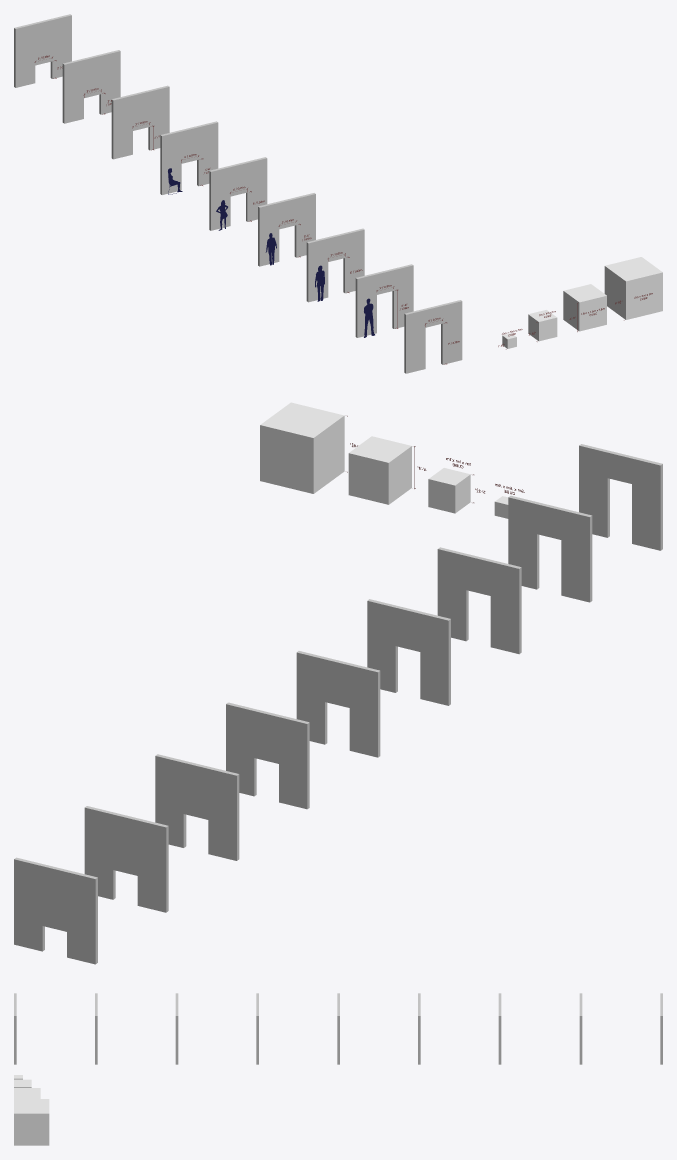
Rendered from scale-test-02.fbx.
3 views of the same model, one above another, from view 1: azimuth 30°, elevation 25°; view 2: azimuth 150°, elevation 25°; view 3: azimuth 270°, elevation 25° (orthographic). The views are drawn at different scales.
Visible parts, largest first — view 1: SCALE-FIG-TEST-GEO, SCALE-FIGS, SCALE-FIG-TEST-DIMS; view 2: SCALE-FIG-TEST-GEO; view 3: SCALE-FIG-TEST-GEO.
Boxes of the visible parts, x1,y1,x2,y2 form: SCALE-FIG-TEST-GEO: (14,14,662,373); SCALE-FIGS: (168,168,374,337); SCALE-FIG-TEST-DIMS: (34,55,652,364); SCALE-FIG-TEST-GEO: (14,402,662,964); SCALE-FIG-TEST-GEO: (14,993,662,1145).
Bounding box in the file's own units: 13.9 × 36.73 × 3.1.
